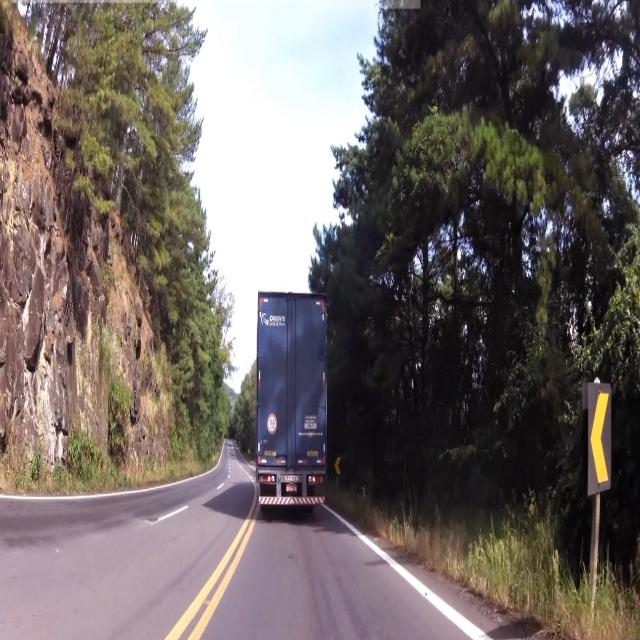Del: (578, 376, 616, 497)
